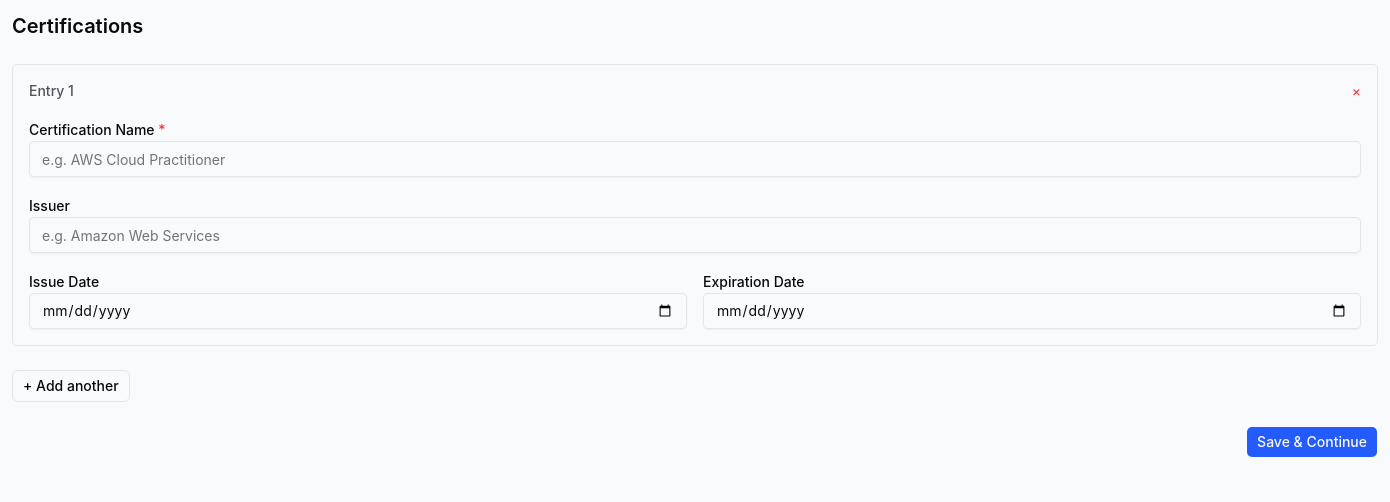
Test: CertificationsStep › blur on empty certification name renders text-red-600 error below the field
Click the field with placeholder "e.g. AWS Cloud Practitioner". click: (695, 159)
box: left=29, top=141, right=1361, bottom=177
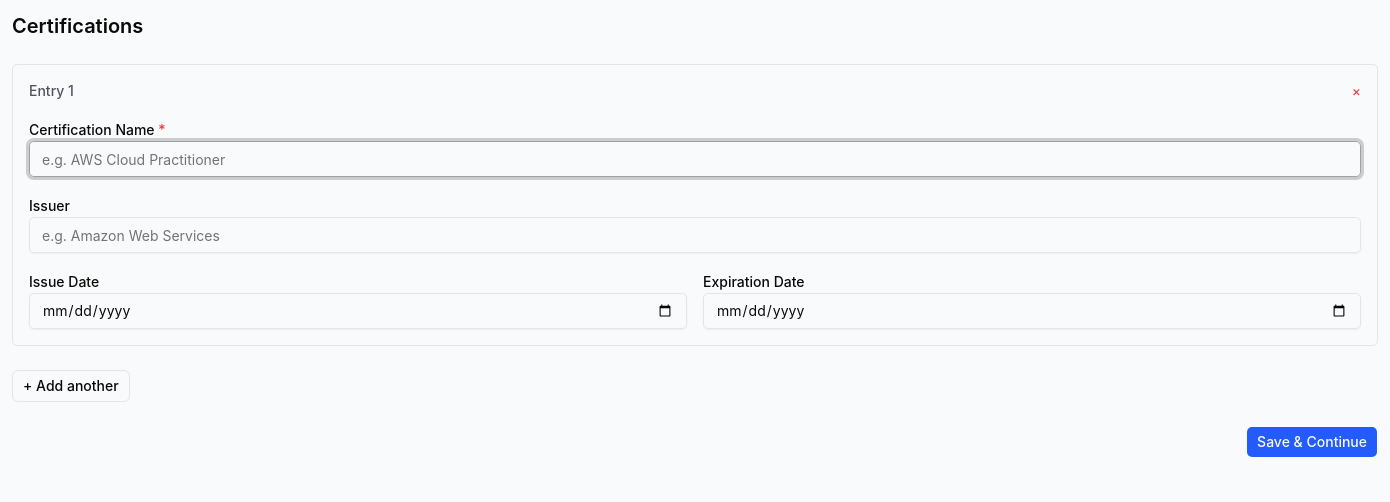
Press Tab
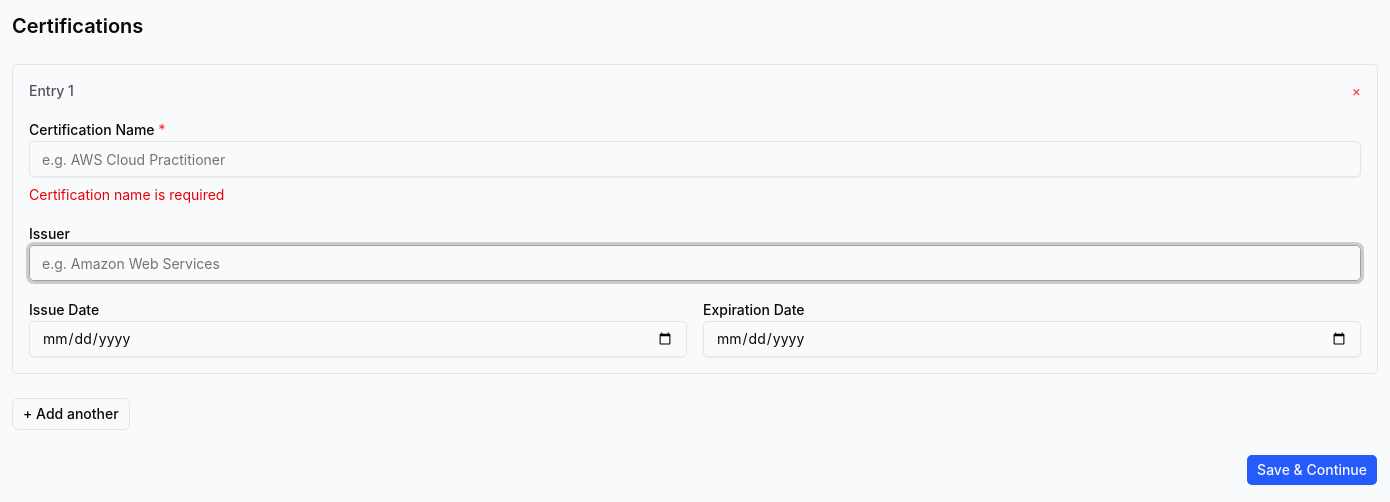
Check: the text "Certification name is required" is shown, box left=29, top=186, right=224, bottom=203
